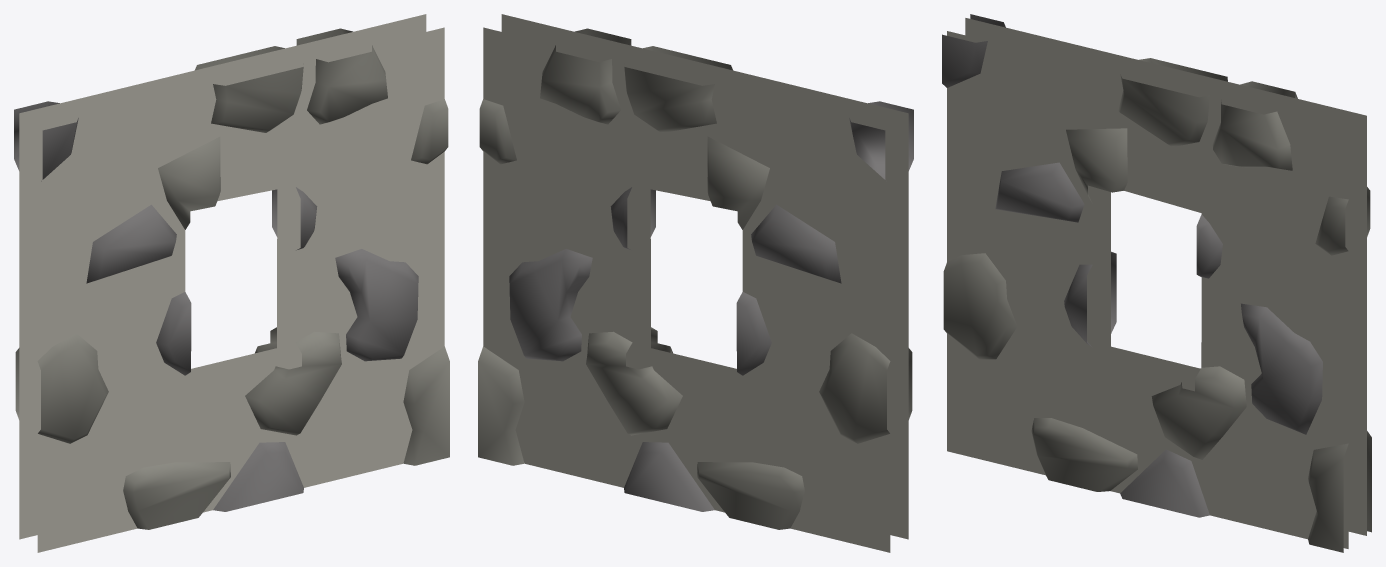
The model's file is rpgpp_ag_wall_04_3x3_window_04b.fbx.
3 views of the same model, side by side, from view 1: azimuth 30°, elevation 25°; view 2: azimuth 150°, elevation 25°; view 3: azimuth 330°, elevation 25° (orthographic).
Parts seen in each view (by area): view 1: rpgpp_ag_wall_04_3x3_window_04b; view 2: rpgpp_ag_wall_04_3x3_window_04b; view 3: rpgpp_ag_wall_04_3x3_window_04b.
Boxes of the visible parts, x1,y1,x2,y2 form: rpgpp_ag_wall_04_3x3_window_04b: [14, 14, 449, 552]; rpgpp_ag_wall_04_3x3_window_04b: [478, 14, 913, 552]; rpgpp_ag_wall_04_3x3_window_04b: [942, 14, 1371, 552].
Size of the model in its own units: 3 by 3 by 0.404.
